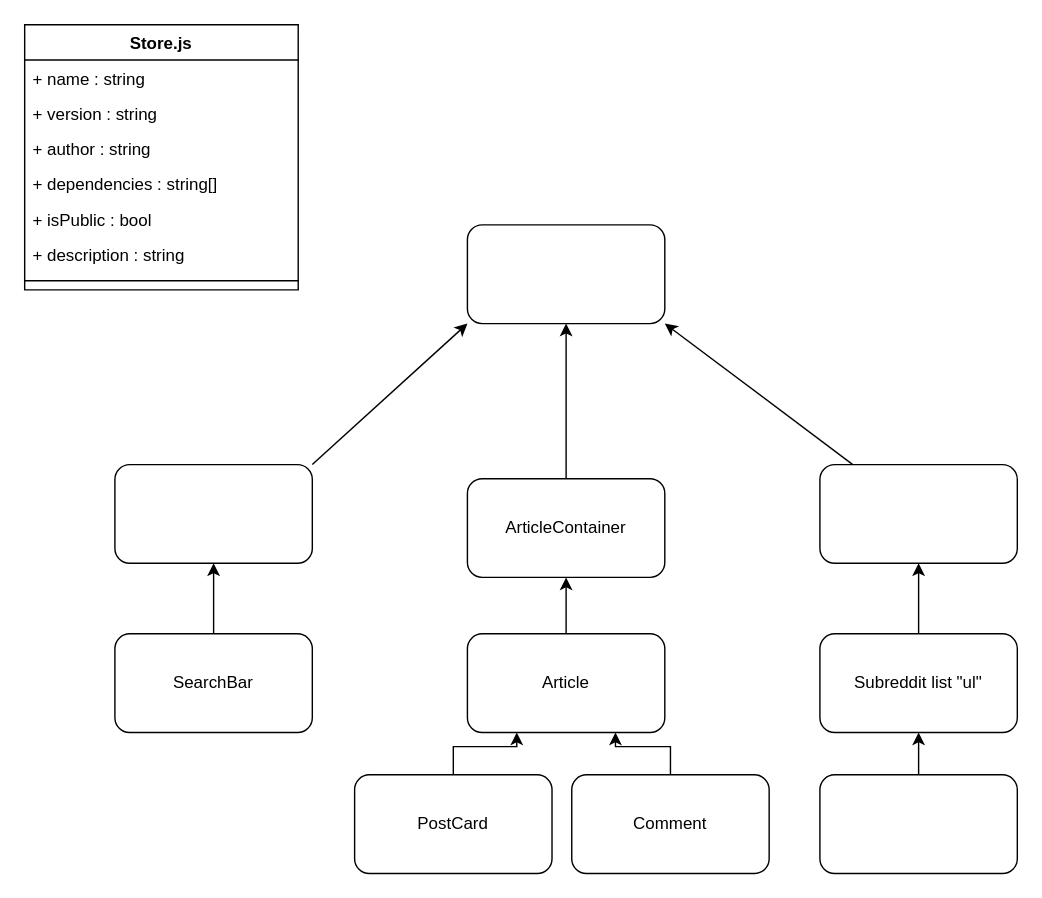
This 1042x898 diagram has some shape labels left out. The shapes that lost their labels are listed below. From the top down, each one's centre as x and y in pixels, then its label:
point 565,273: App
point 213,513: Header
point 918,513: Aside
point 918,823: Subreddit card "li"
